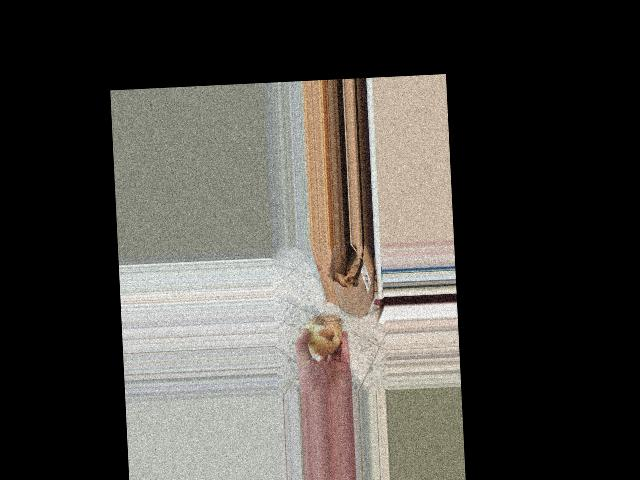onion: (296, 312, 344, 361)
